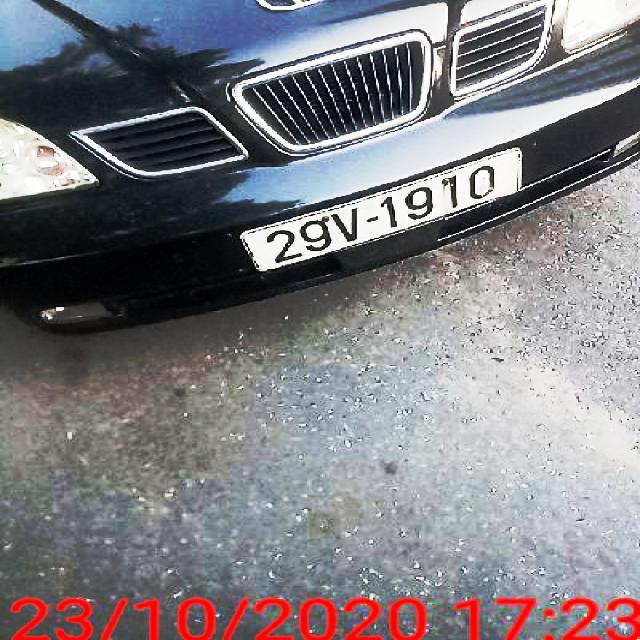license_plate: (239, 148, 522, 275)
